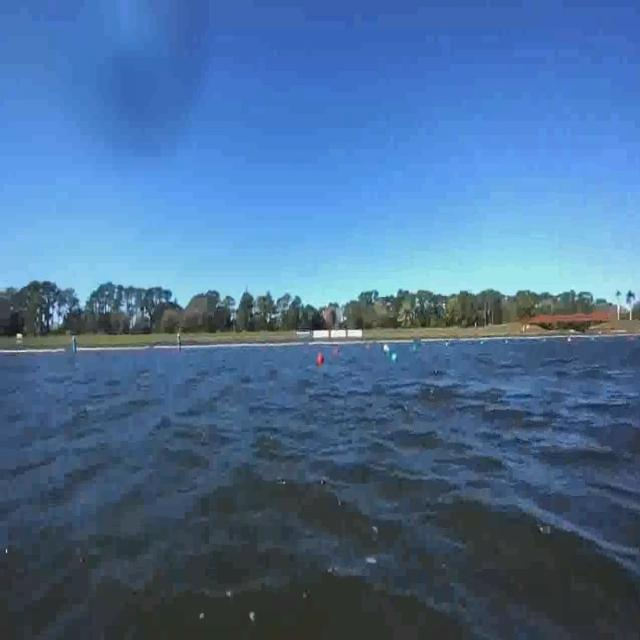red-buoy: (317, 353, 324, 365)
